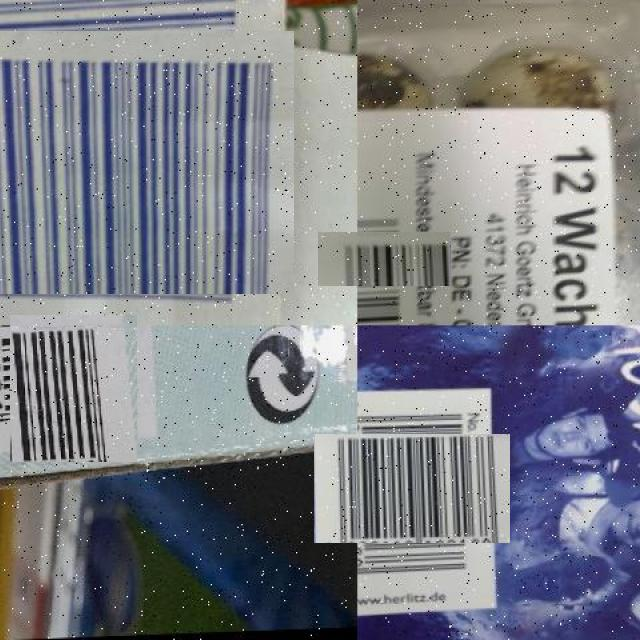Barcode: (0, 15, 279, 309), (336, 412, 488, 565), (5, 320, 143, 457), (338, 211, 431, 306)
